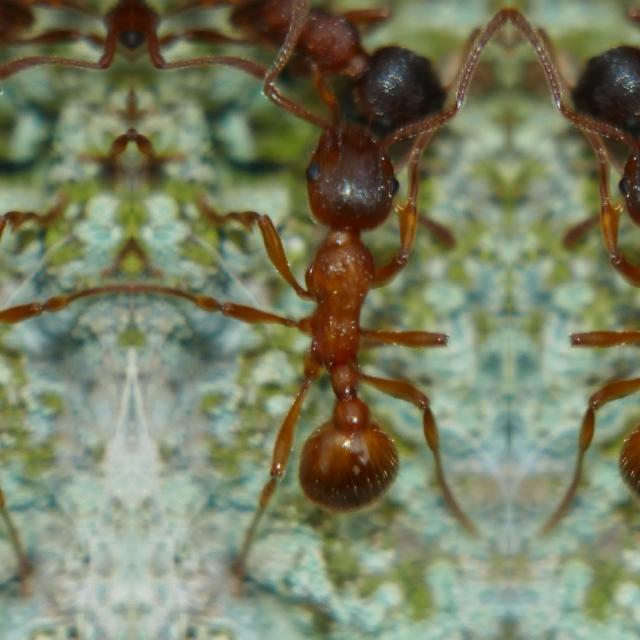Myrmica: (210, 38, 508, 536), (508, 38, 640, 534)
